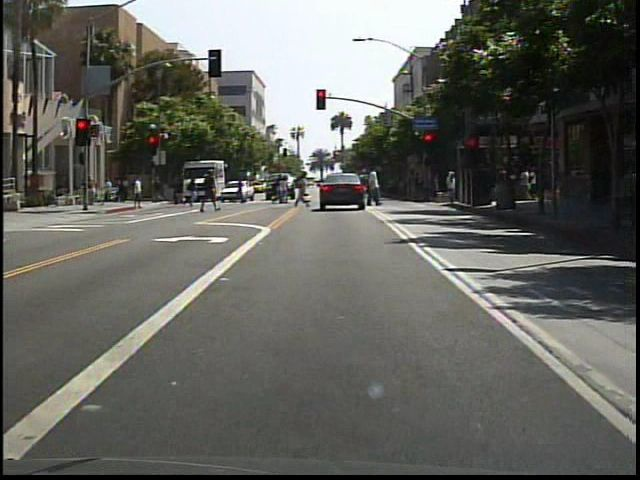person: (362, 163, 385, 211), (202, 168, 224, 217), (296, 173, 315, 211), (130, 175, 147, 212), (186, 174, 201, 210)
